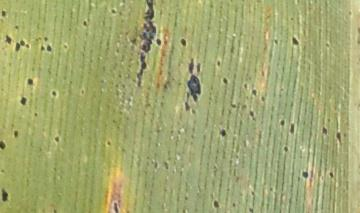tarspot: (138, 1, 157, 52), (182, 74, 203, 103), (133, 52, 148, 88), (111, 196, 123, 213), (288, 35, 304, 45), (187, 57, 196, 74), (101, 136, 114, 147), (288, 121, 298, 135), (334, 131, 344, 145), (1, 188, 9, 205), (177, 36, 189, 47), (299, 168, 310, 180), (181, 102, 194, 112), (3, 33, 13, 46), (320, 124, 329, 137), (195, 61, 203, 75), (218, 128, 228, 139), (19, 95, 28, 107), (154, 38, 164, 48), (221, 76, 230, 87), (278, 117, 287, 128), (1, 6, 8, 20), (11, 128, 20, 138), (13, 41, 22, 51), (26, 77, 36, 86), (45, 44, 55, 53), (52, 134, 61, 144), (81, 18, 90, 28), (1, 139, 9, 150), (50, 89, 59, 98), (213, 200, 221, 210), (282, 144, 290, 154), (110, 6, 118, 16), (247, 109, 256, 117), (17, 38, 25, 47), (250, 88, 259, 96), (32, 111, 41, 119), (327, 171, 335, 179), (41, 34, 49, 42), (24, 44, 32, 51), (12, 23, 20, 30), (39, 45, 46, 53), (289, 16, 297, 23), (51, 207, 59, 213), (217, 60, 222, 67)
